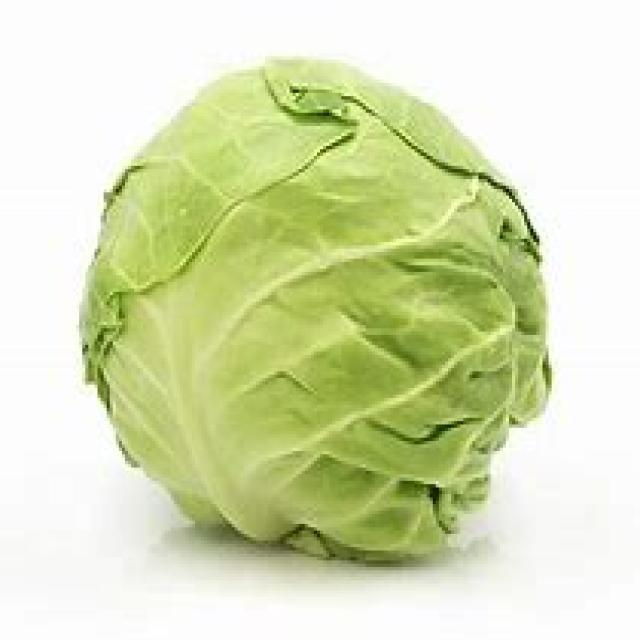cabbage: (56, 66, 578, 568)
